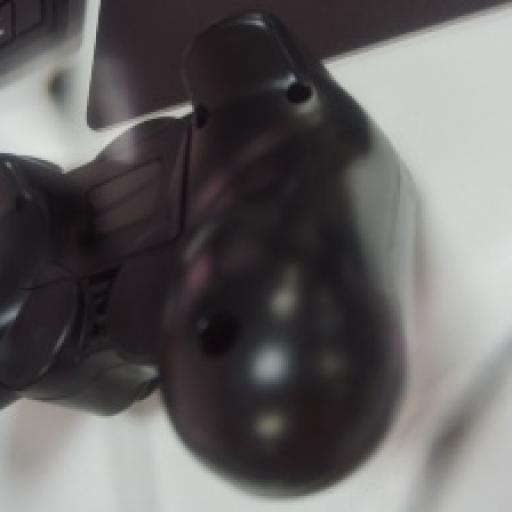game pad: (0, 11, 411, 494)
